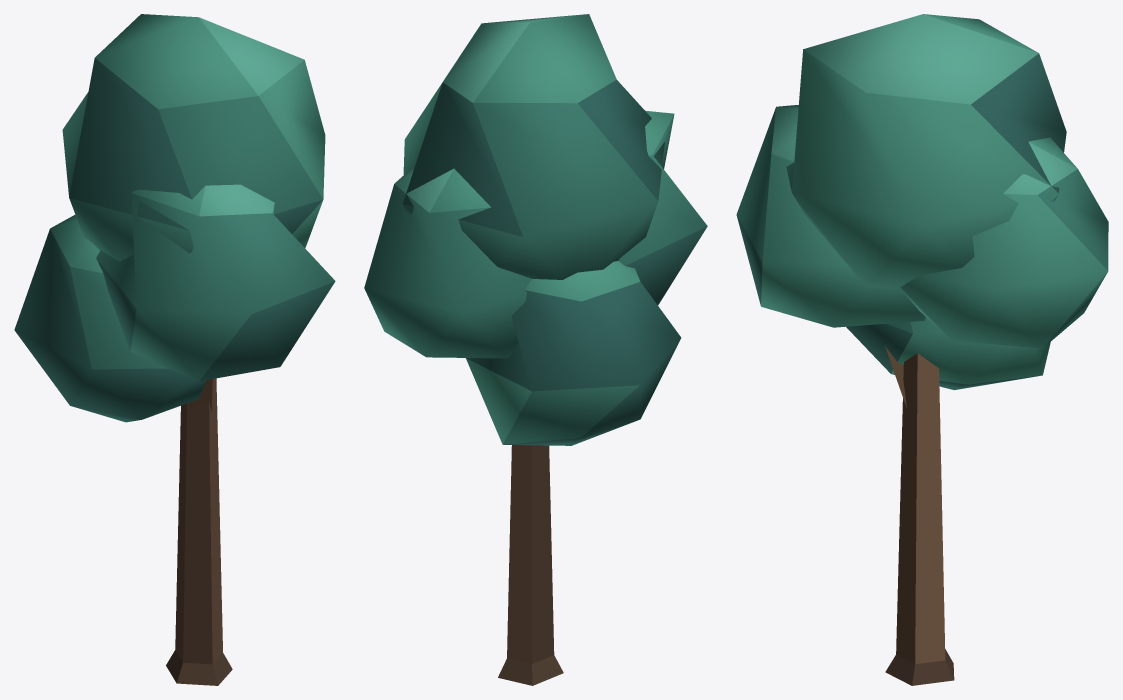
The model's file is night-tree-b.glb.
3 renders of one model, left to right at view 1: azimuth 30°, elevation 25°; view 2: azimuth 150°, elevation 25°; view 3: azimuth 270°, elevation 25°, orthographic.
Visible parts, largest first — view 1: night-tree-b; view 2: night-tree-b; view 3: night-tree-b.
Boxes of the visible parts, box(x1,y1,x2,y2) form: night-tree-b: box(14, 14, 335, 685); night-tree-b: box(364, 14, 707, 685); night-tree-b: box(736, 14, 1108, 685).
Size of the model in its own units: 7.06 by 16.1 by 8.25.
